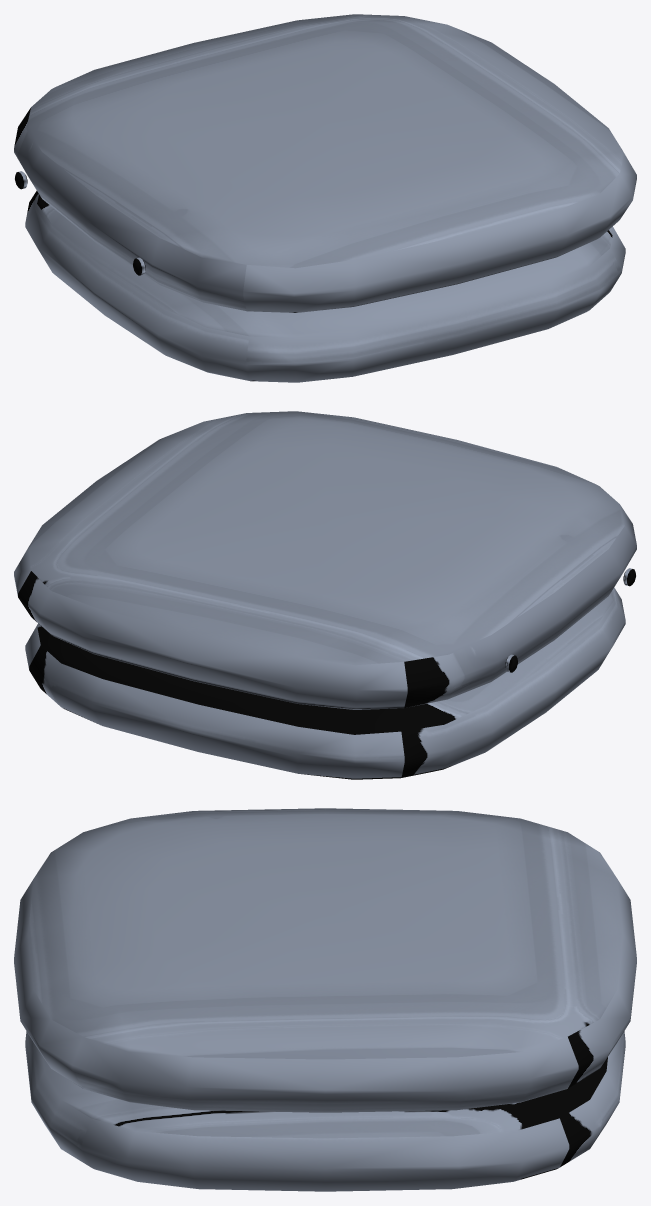
File: Estela_BrazoDer_Acero.fbx
3 views of the same model, one above another, from view 1: azimuth 30°, elevation 25°; view 2: azimuth 150°, elevation 25°; view 3: azimuth 270°, elevation 25° (orthographic). The views are drawn at different scales.
Parts seen in each view (by area): view 1: Estela_BrazoDer_Acero; view 2: Estela_BrazoDer_Acero; view 3: Estela_BrazoDer_Acero.
Boxes of the visible parts, x1,y1,x2,y2 form: Estela_BrazoDer_Acero: (14, 14, 636, 382); Estela_BrazoDer_Acero: (14, 411, 636, 779); Estela_BrazoDer_Acero: (14, 808, 636, 1191).
Size of the model in its own units: 1.2 by 0.3725 by 1.18.
